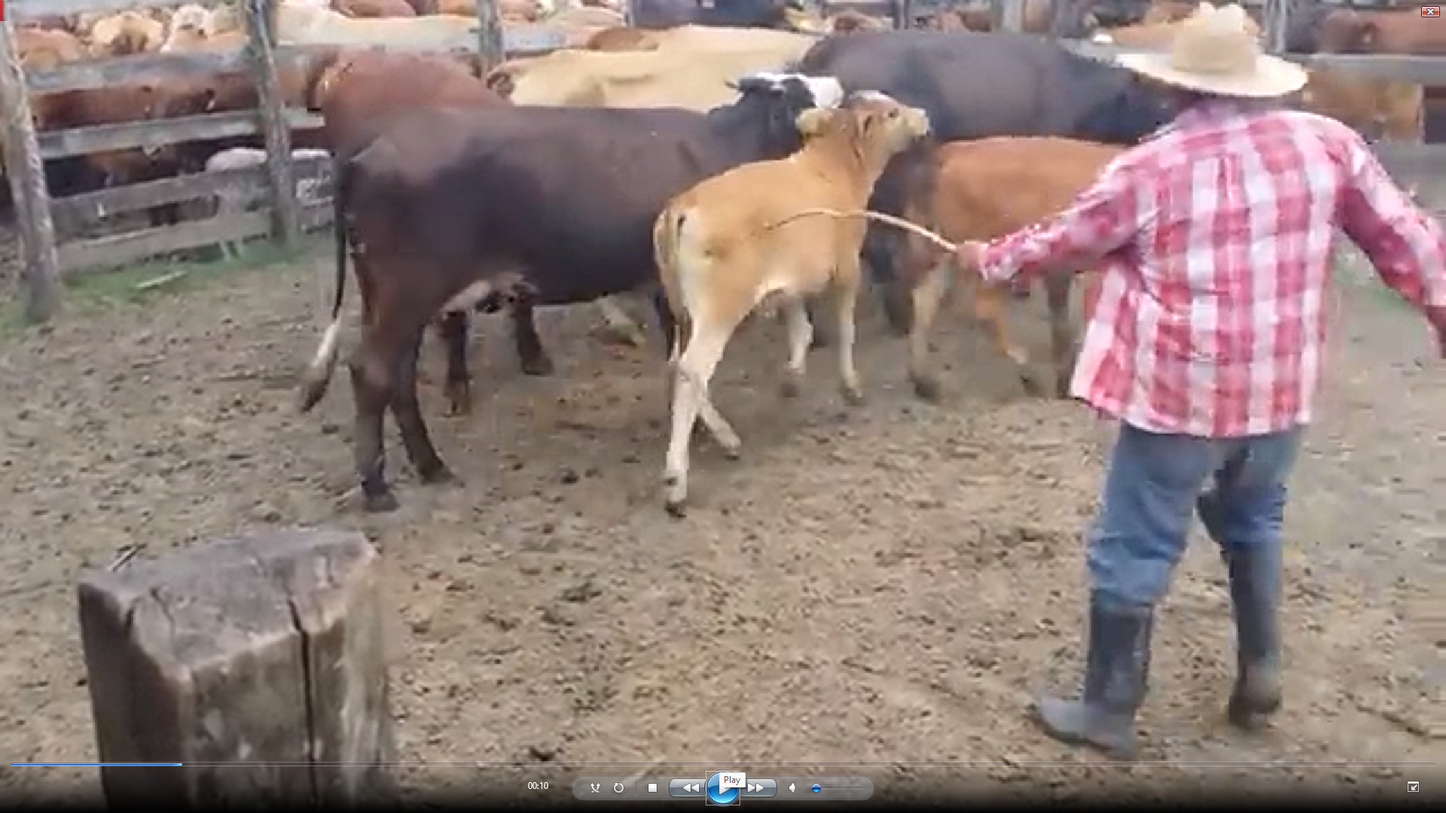bovino: (333, 69, 819, 500), (638, 98, 913, 510)
